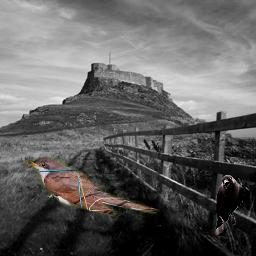Crow: (215, 175, 243, 236)
Cuckoo: (23, 154, 161, 221)
